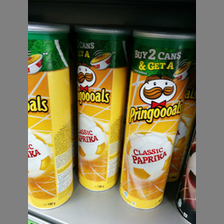chips: (121, 31, 189, 209), (78, 26, 128, 192), (29, 26, 73, 209)
